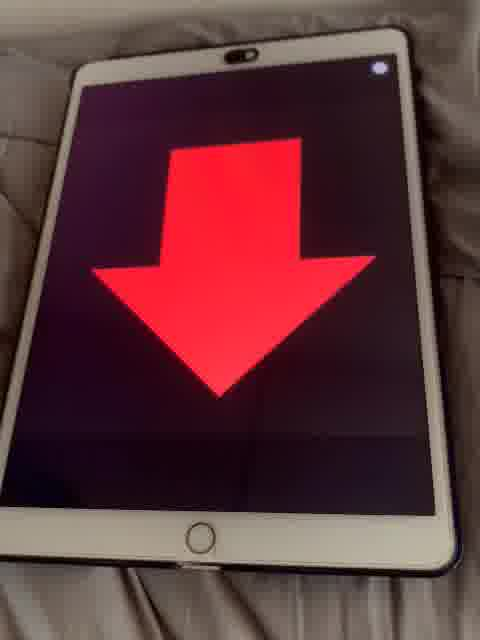down: (87, 120, 378, 408)
